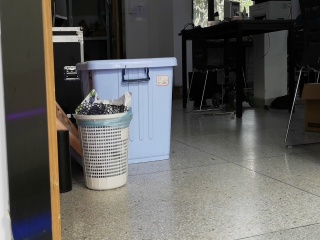room: (4, 3, 320, 234)
